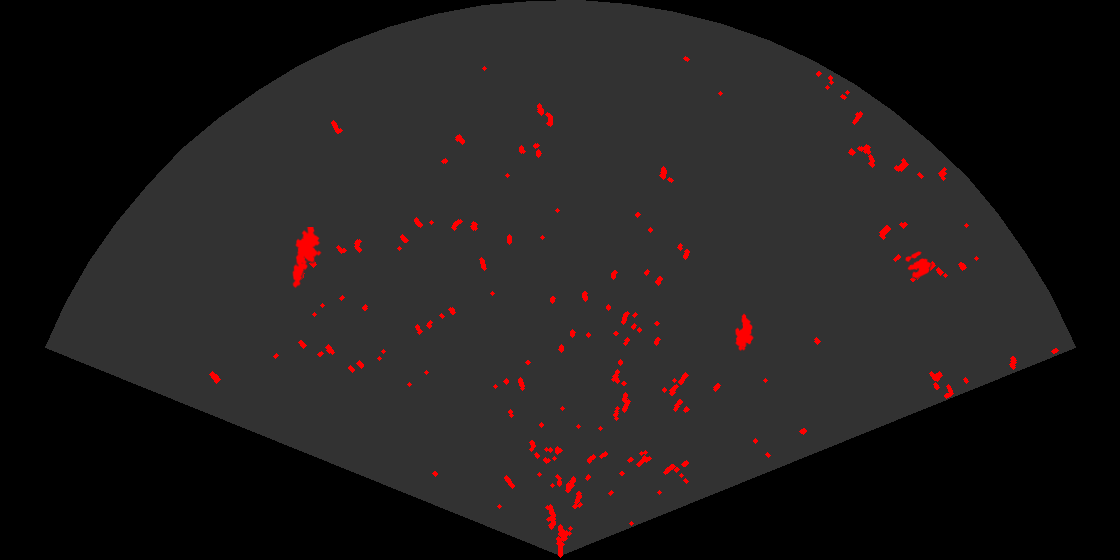AUV: (734, 312, 755, 353)
ball: (904, 250, 933, 280)
frogman: (291, 227, 323, 289)
